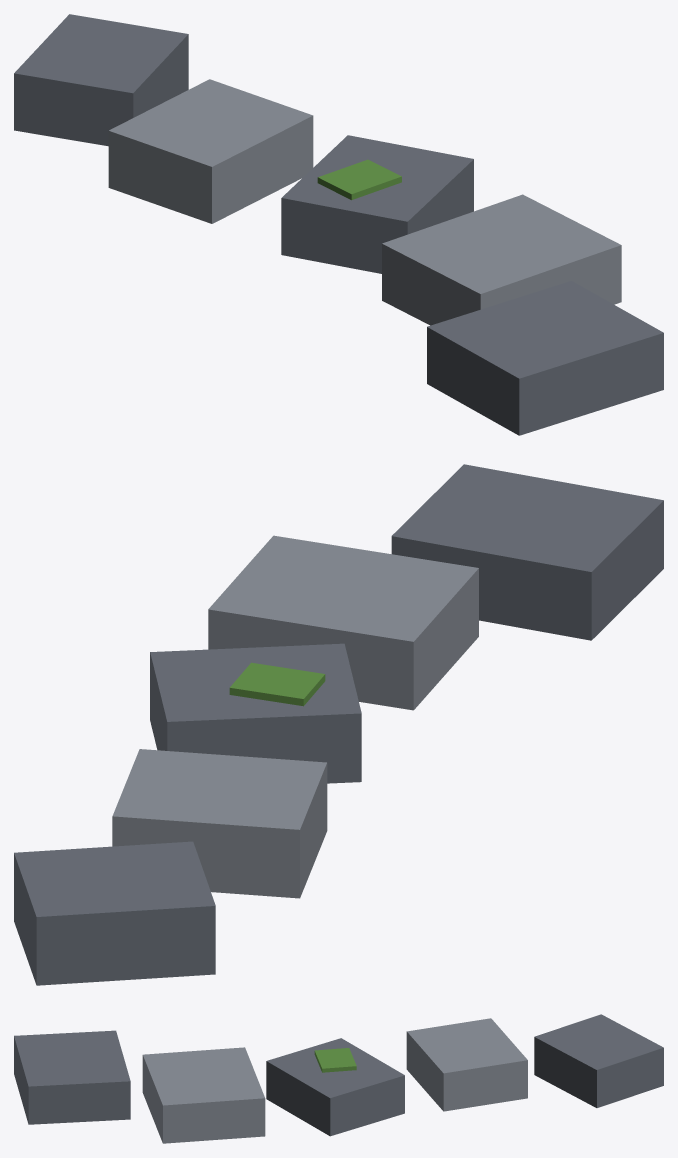
File: C10_stepping_stones.obj
The picture shows the model from 3 angles, top to bottom: view 1: azimuth 30°, elevation 25°; view 2: azimuth 150°, elevation 25°; view 3: azimuth 270°, elevation 25°; orthographic projection. The views are drawn at different scales.
Parts seen in each view (by area): view 1: C10_stepping_stones; view 2: C10_stepping_stones; view 3: C10_stepping_stones.
Boxes of the visible parts, box(x1,y1,x2,y2) form: C10_stepping_stones: box(14, 14, 663, 435); C10_stepping_stones: box(14, 464, 663, 985); C10_stepping_stones: box(14, 1014, 663, 1143).
Size of the model in its own units: 1.23 by 0.265 by 3.7.
